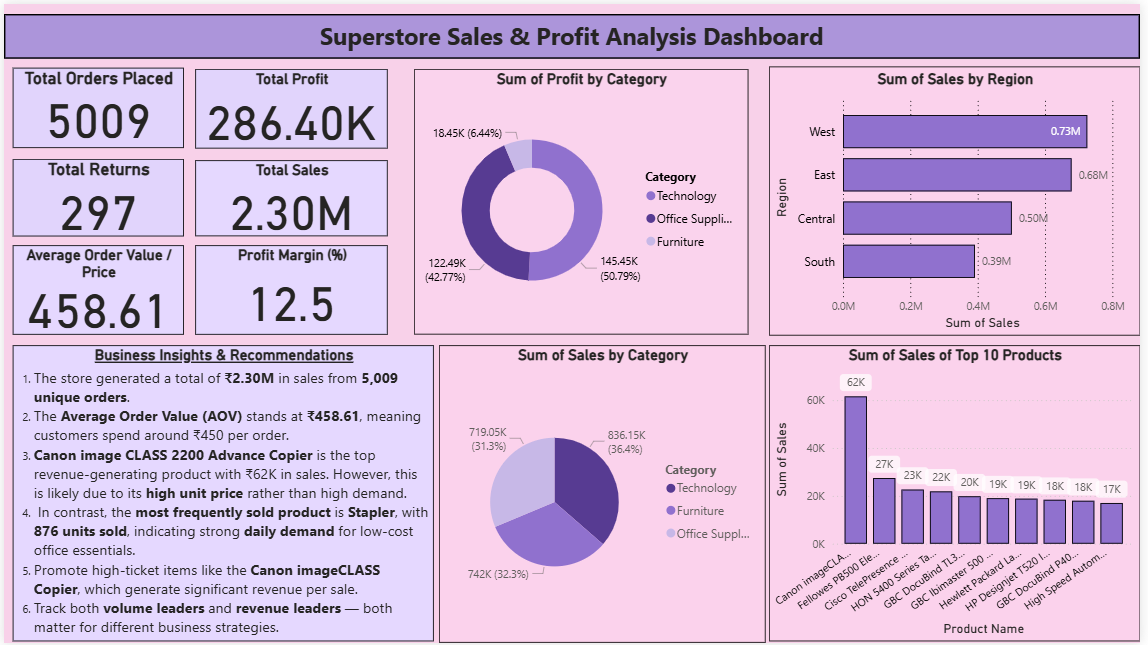

The page's visual inventory and layout, read from the dashboard file:
{"tool":"powerbi","page":{"name":"Page 1","canvas":[1280,720],"ordinal":0},"visuals":[{"type":"lineClusteredColumnComboChart","title":"Sum of Sales of Top 10 Products","fields":{"Category":["Orders.Product Name"],"Y":["Sum(Orders.Sales)"]},"box":[861.7,384.5,418.3,333.8],"z":0},{"type":"pieChart","fields":{"Category":["Orders.Category"],"Y":["Sum(Orders.Sales)"]},"box":[489.6,385,368.1,335],"z":1000},{"type":"barChart","fields":{"Category":["Orders.Region"],"Y":["Sum(Orders.Sales)"]},"box":[861.4,69.9,418.4,303.1],"z":2000},{"type":"donutChart","fields":{"Category":["Orders.Category"],"Y":["Sum(Orders.Profit)"]},"box":[461.4,73.6,376.7,299.4],"z":3000},{"type":"card","title":"Total Orders Placed","fields":{"Values":["Count(Orders.Order ID)"]},"box":[9.8,72.4,192.6,90.8],"z":4000},{"type":"card","title":"Total Returns","fields":{"Values":["Count(Returns.Column2)"]},"box":[9.8,174.2,192.6,87.1],"z":5000},{"type":"card","title":"Total Profit","fields":{"Values":["Sum(Orders.Profit)"]},"box":[216,73.6,217.2,89.6],"z":6000},{"type":"textbox","box":[0,11,1279.8,50.3],"z":7000},{"type":"card","title":"Total Sales","fields":{"Values":["Sum(Orders.Sales)"]},"box":[216,175.5,217.2,85.9],"z":8000},{"type":"card","title":"Average Order Value / Price","fields":{"Values":["Orders.AverageOrderValue"]},"box":[9.8,272.4,192.6,100.6],"z":9000},{"type":"textbox","title":"Business Insights & Recommendations","box":[9.9,384.5,474.6,333.8],"z":10000},{"type":"card","title":"Profit Margin (%)","fields":{"Values":["Orders.Profit_Margin"]},"box":[216,272.4,217.2,100.6],"z":11000}]}

Visuals, with their boxes in screenshot pixels (x1, y1, x2, y2), scaled from the page's 1280x720 canvas onto the 1148x645 screenshot:
"Sum of Sales of Top 10 Products" lineClusteredColumnComboChart: select_region(773, 344, 1147, 643)
pieChart - Orders.Category x Sum(Orders.Sales): select_region(439, 345, 769, 644)
barChart - Orders.Region x Sum(Orders.Sales): select_region(773, 63, 1147, 334)
donutChart - Orders.Category x Sum(Orders.Profit): select_region(414, 66, 752, 334)
"Total Orders Placed" card: select_region(9, 65, 182, 146)
"Total Returns" card: select_region(9, 156, 182, 234)
"Total Profit" card: select_region(194, 66, 389, 146)
textbox: select_region(0, 10, 1147, 55)
"Total Sales" card: select_region(194, 157, 389, 234)
"Average Order Value / Price" card: select_region(9, 244, 182, 334)
"Business Insights & Recommendations" textbox: select_region(9, 344, 435, 643)
"Profit Margin (%)" card: select_region(194, 244, 389, 334)
